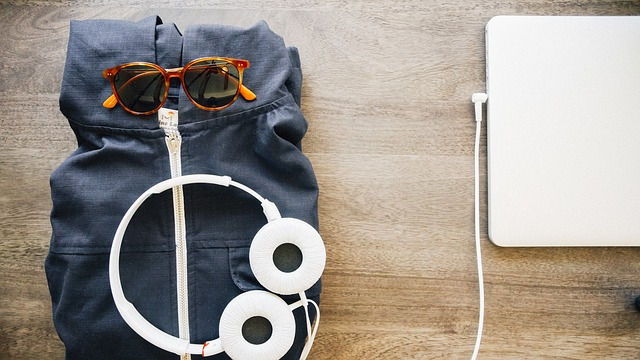headphones: (110, 176, 326, 360)
